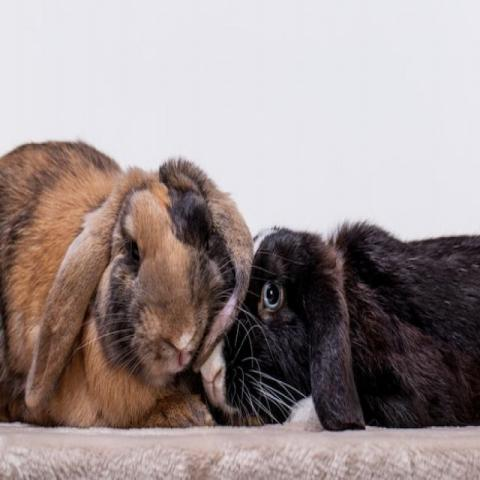small_animal: (0, 137, 256, 430), (224, 218, 480, 432)
